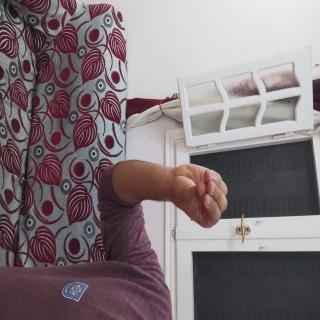HA: (119, 116, 178, 211)
